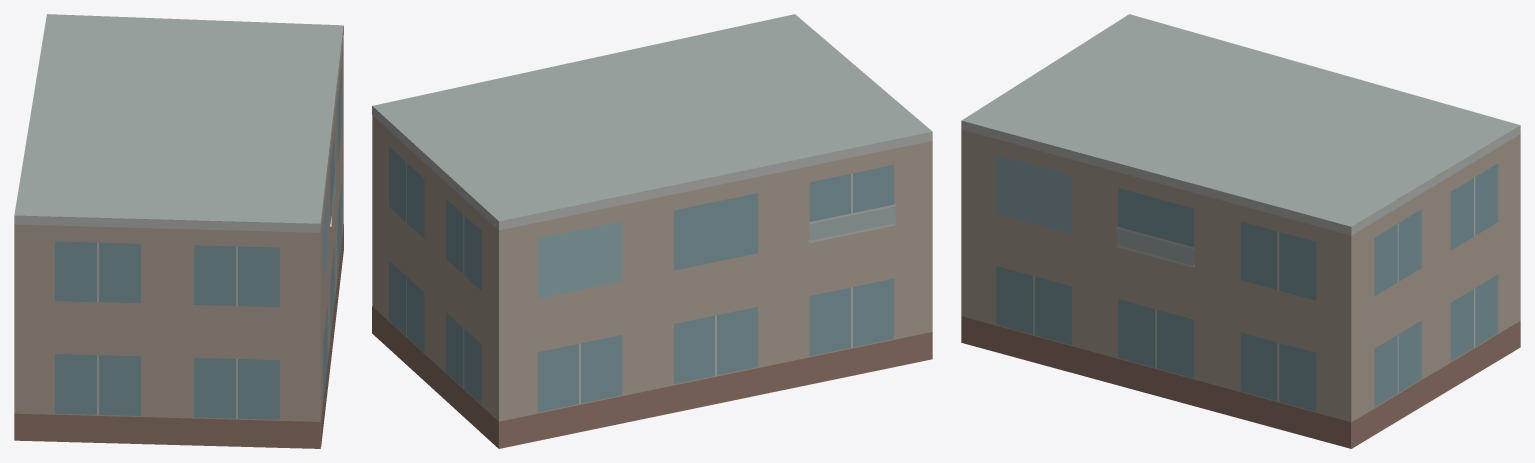
Rendered from survey-upis-32893177.glb.
3 renders of one model, left to right at view 1: azimuth 30°, elevation 25°; view 2: azimuth 150°, elevation 25°; view 3: azimuth 270°, elevation 25°, orthographic. The views are drawn at different scales.
Parts seen in each view (by area): view 1: survey-upis-32893177.tmp; view 2: survey-upis-32893177.tmp; view 3: survey-upis-32893177.tmp.
Boxes of the visible parts, bbox=[...] form: survey-upis-32893177.tmp: bbox=[14, 14, 343, 448]; survey-upis-32893177.tmp: bbox=[372, 14, 932, 448]; survey-upis-32893177.tmp: bbox=[961, 14, 1520, 448].
Size of the model in its own units: 12.54 by 6.1 by 13.93.
